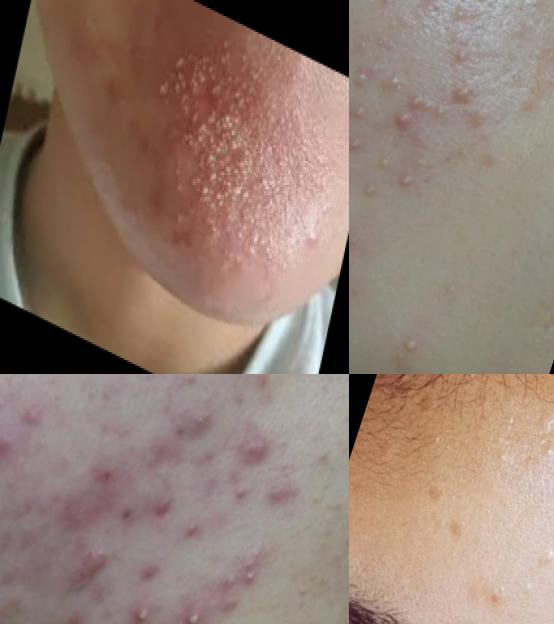blackhead: (423, 612, 476, 624)
flat_wart: (476, 583, 546, 624), (407, 470, 462, 516), (437, 513, 484, 557), (520, 537, 554, 568)
papular: (48, 540, 114, 615), (251, 460, 311, 523), (162, 397, 219, 456), (293, 208, 338, 279), (229, 420, 280, 471), (83, 449, 130, 496), (1, 410, 26, 485), (211, 582, 249, 622), (145, 487, 183, 526)
purulent: (383, 85, 439, 143), (375, 328, 444, 375), (439, 18, 488, 69), (445, 70, 486, 115), (350, 62, 385, 99), (360, 140, 395, 173), (393, 167, 422, 200), (173, 602, 212, 624), (124, 600, 157, 624), (350, 132, 366, 158), (350, 103, 367, 127)
whitehead: (150, 29, 223, 134), (174, 112, 246, 206), (223, 161, 287, 259), (202, 96, 254, 169), (225, 550, 272, 600), (476, 441, 523, 482), (177, 512, 218, 554), (219, 475, 253, 518), (359, 175, 385, 204), (372, 1, 403, 15)
